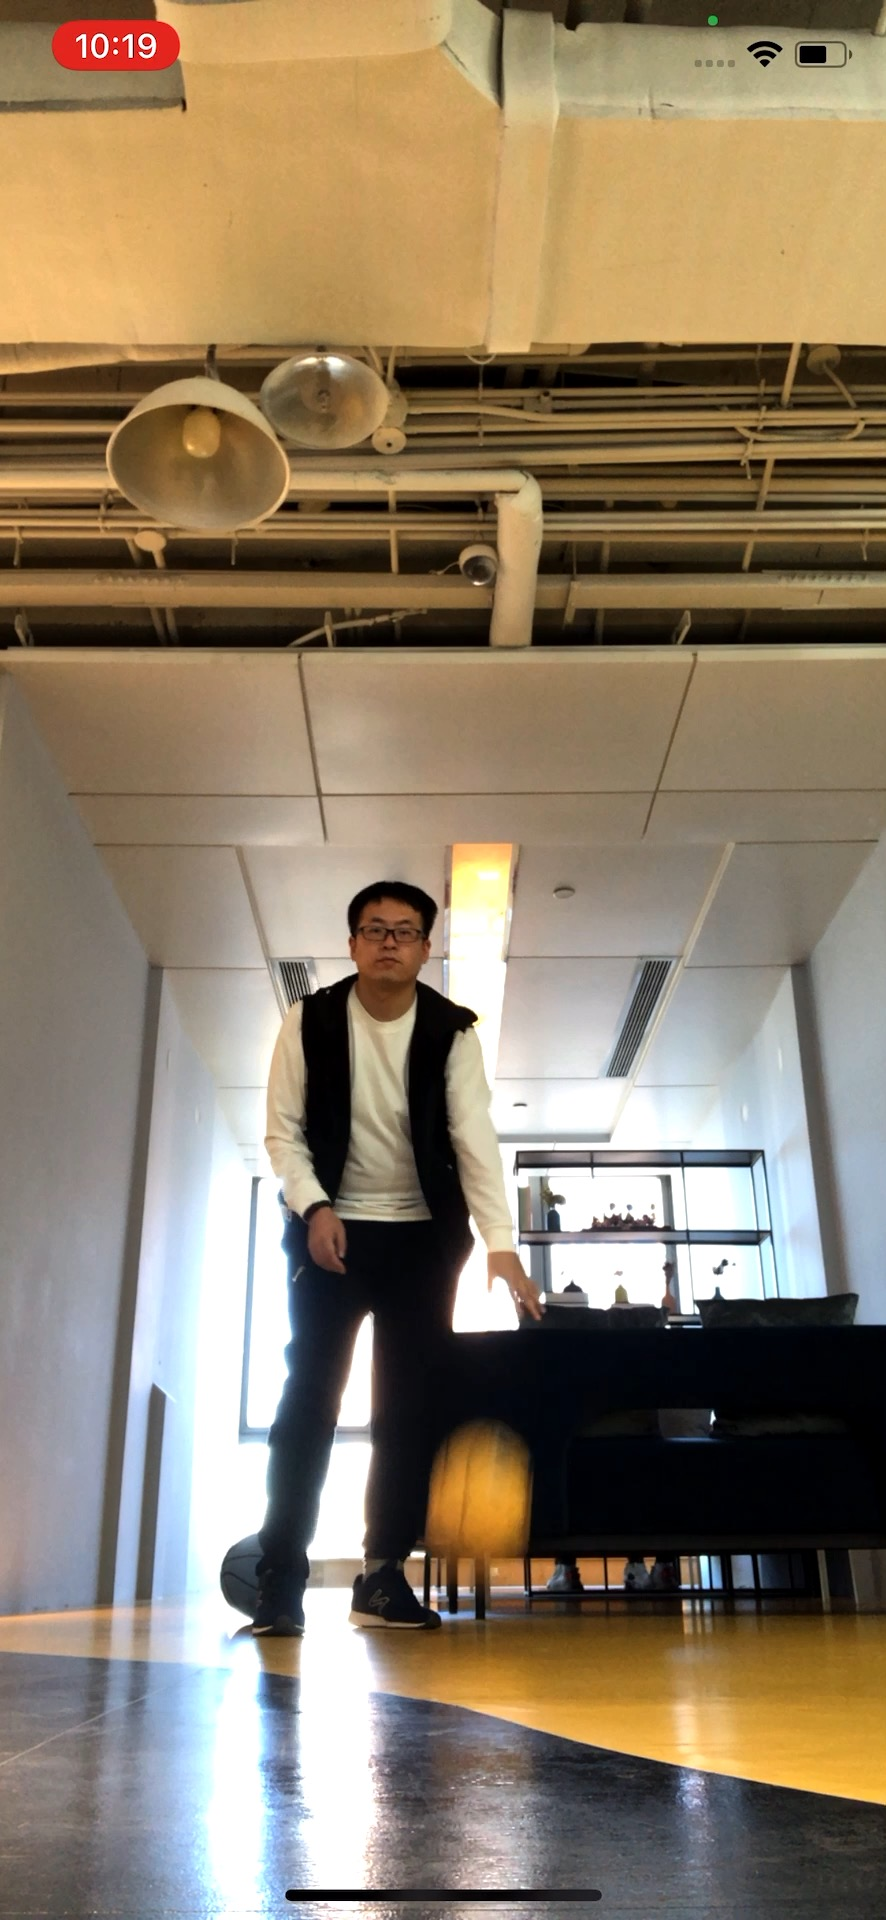ball: (423, 1427, 541, 1558)
